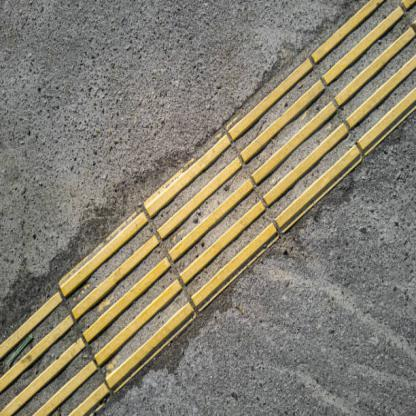podotacti: (2, 1, 416, 411)
